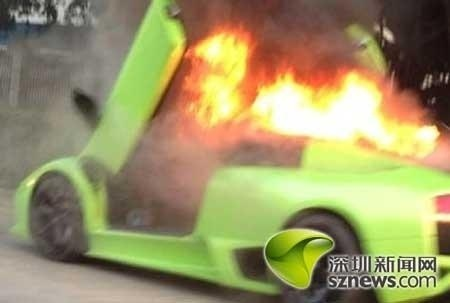fire: (178, 31, 434, 149)
